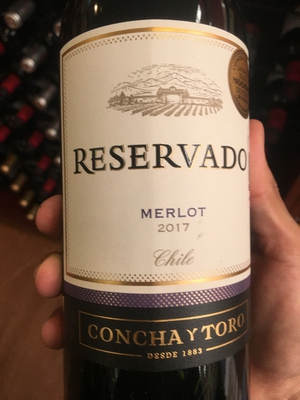reservado merlot: (48, 14, 272, 392)
